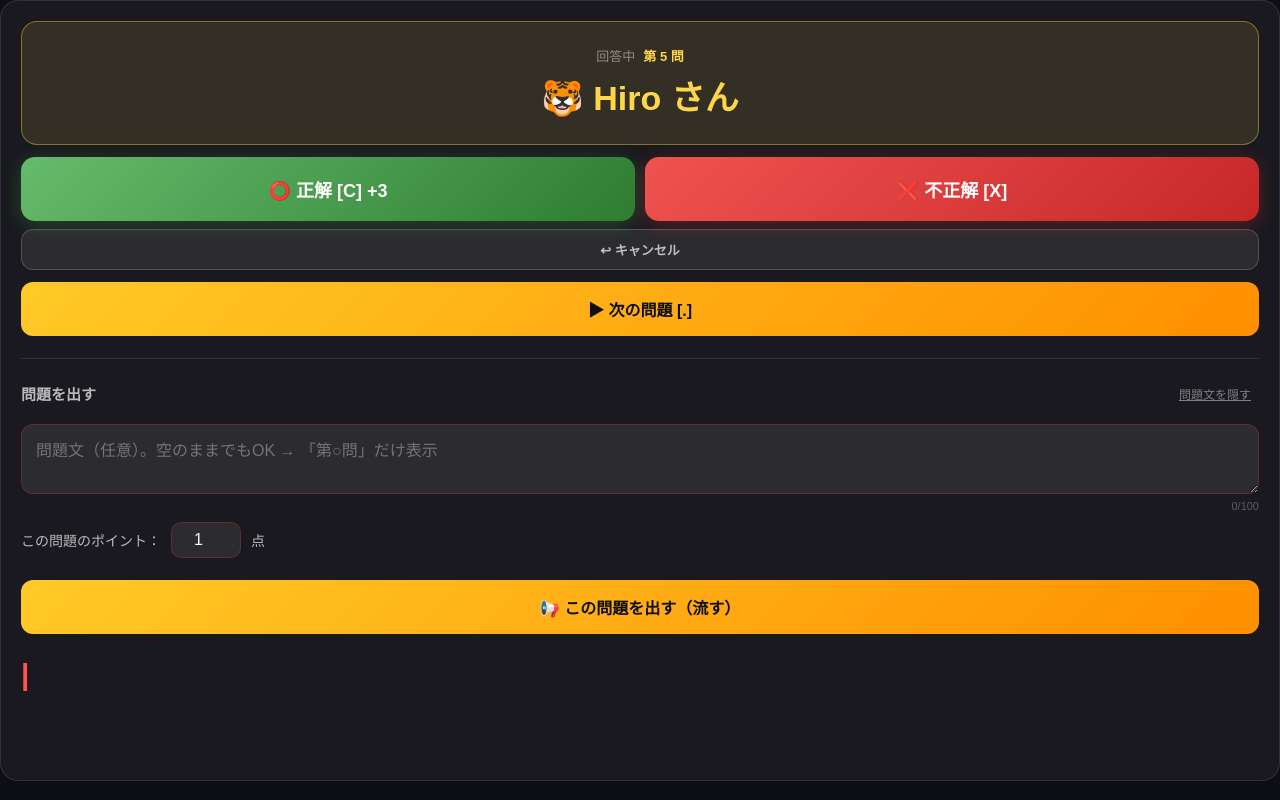
HostControls › folds only the displayed host question text
Expected: the element named "出題中の問題文" is shown, [21,658,29,691]
Step 1. Click the button "問題文を隠す" → (1215, 394), box [1171,377,1259,410]
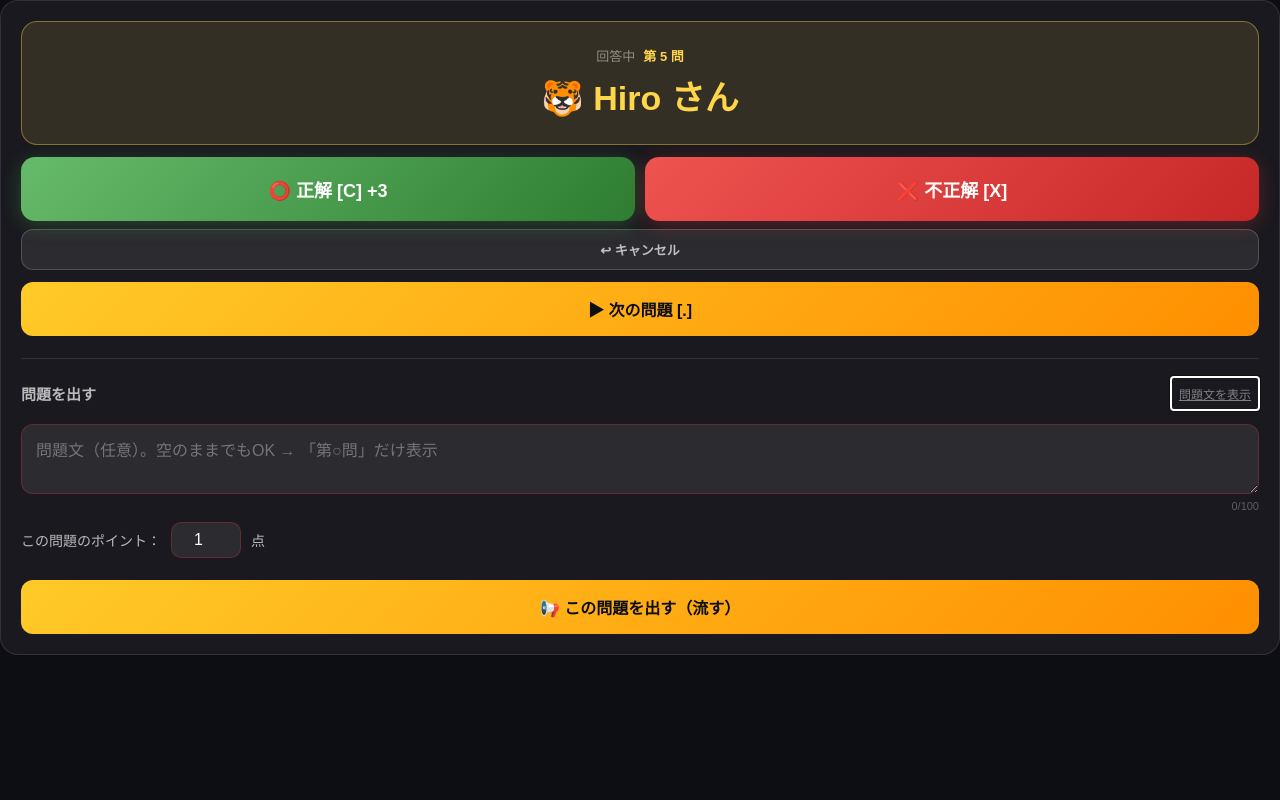
Expected: the text box is shown, [21,424,1259,494]
Expected: the field labelled "出題中の問題文" is gone
